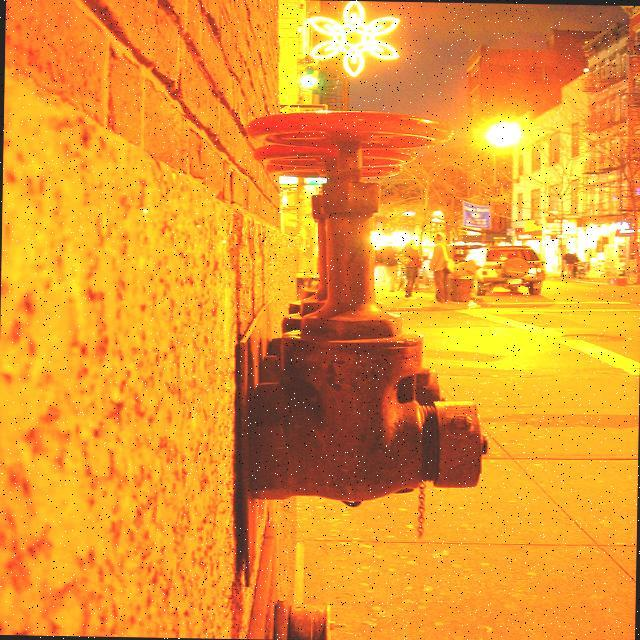fire_hydrant: (242, 105, 494, 506), (248, 140, 414, 358)
